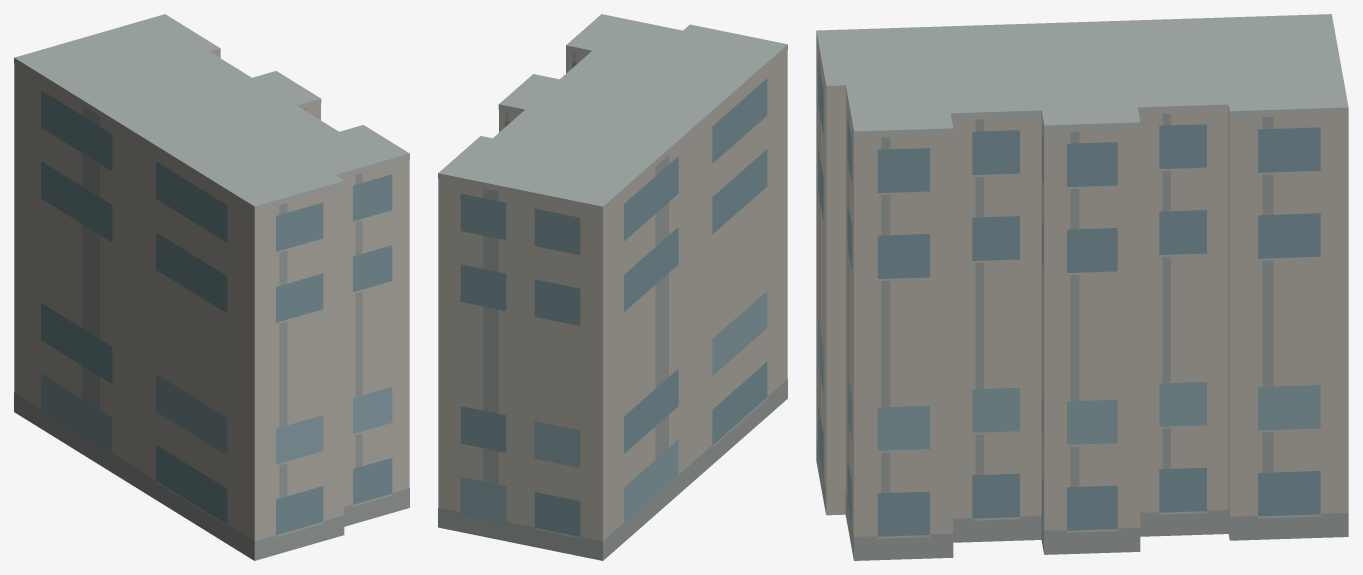
Rendered from survey-upis-32920192.glb.
3 renders of one model, left to right at view 1: azimuth 30°, elevation 25°; view 2: azimuth 150°, elevation 25°; view 3: azimuth 270°, elevation 25°, orthographic. The views are drawn at different scales.
Visible parts, largest first — view 1: survey-upis-32920192.tmp; view 2: survey-upis-32920192.tmp; view 3: survey-upis-32920192.tmp.
Part boxes in pixels (x1,y1,x2,y2): survey-upis-32920192.tmp: (14,14,409,560); survey-upis-32920192.tmp: (438,14,787,560); survey-upis-32920192.tmp: (816,14,1348,560).
Bounding box in the file's own units: 8.63 × 14.7 × 16.52.
